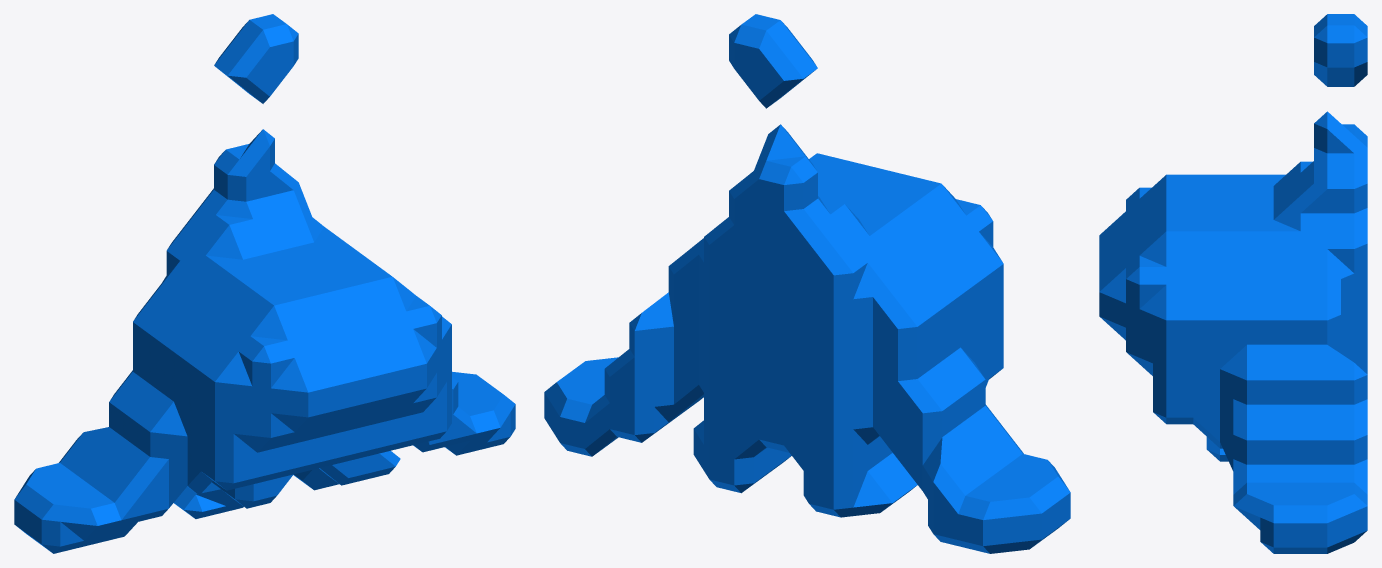
The model's file is mibrim.glb.
3 renders of one model, left to right at view 1: azimuth 30°, elevation 25°; view 2: azimuth 150°, elevation 25°; view 3: azimuth 270°, elevation 25°, orthographic. The views are drawn at different scales.
Size of the model in its own units: 20 by 18 by 10.
